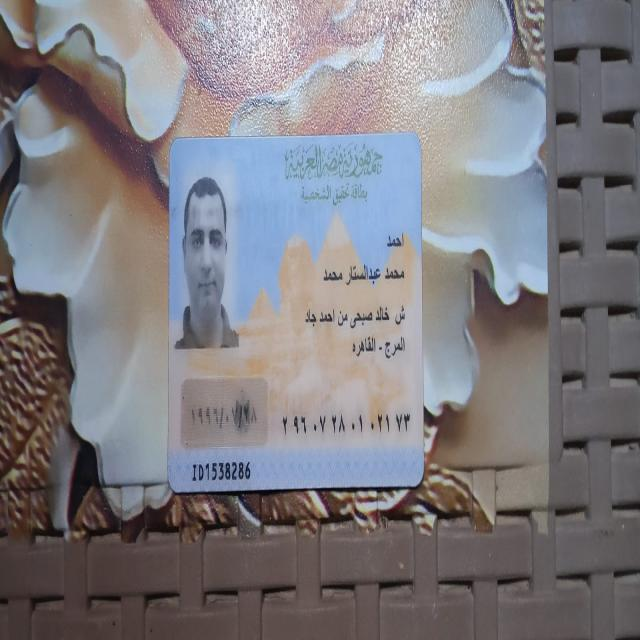id_card: (158, 125, 430, 504)
